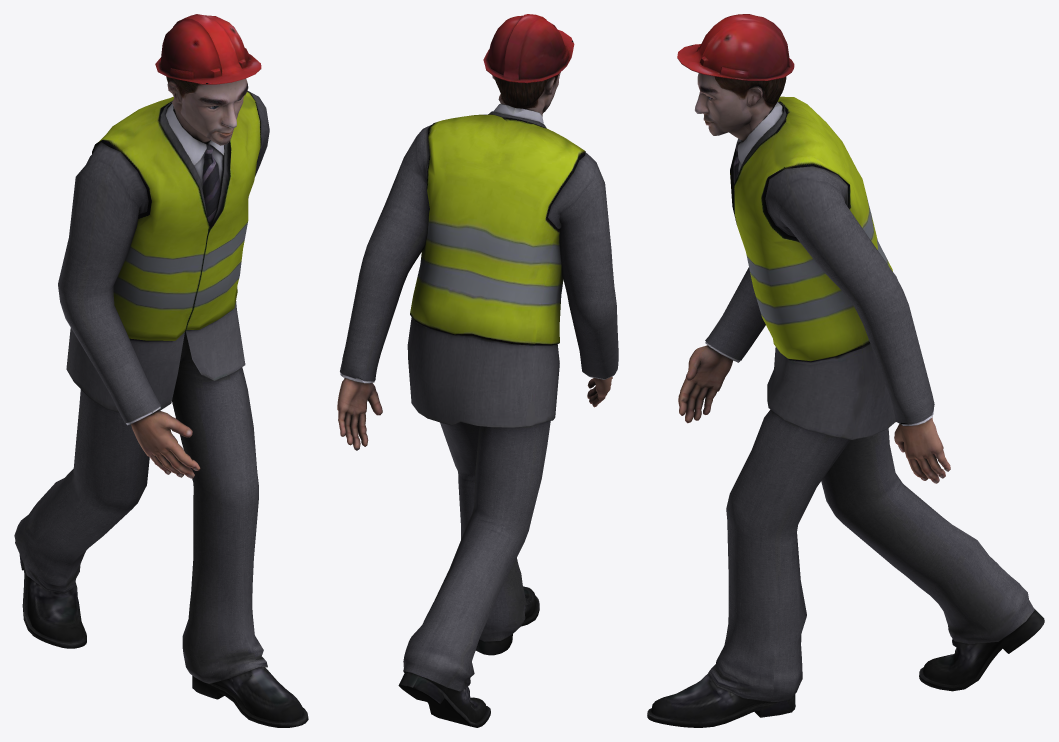
File: SWRK01_01_03.FBX
The picture shows the model from 3 angles, left to right: view 1: azimuth 30°, elevation 25°; view 2: azimuth 150°, elevation 25°; view 3: azimuth 270°, elevation 25°; orthographic projection. The views are drawn at different scales.
Parts seen in each view (by area): view 1: SWRK01_01_03; view 2: SWRK01_01_03; view 3: SWRK01_01_03.
Part boxes in pixels (<box>): SWRK01_01_03: <box>14,14,308,727</box>; SWRK01_01_03: <box>337,14,618,727</box>; SWRK01_01_03: <box>647,14,1044,727</box>.
Size of the model in its own units: 23.97 by 67.54 by 35.76.
Materials: 1 (1 with a texture image).
